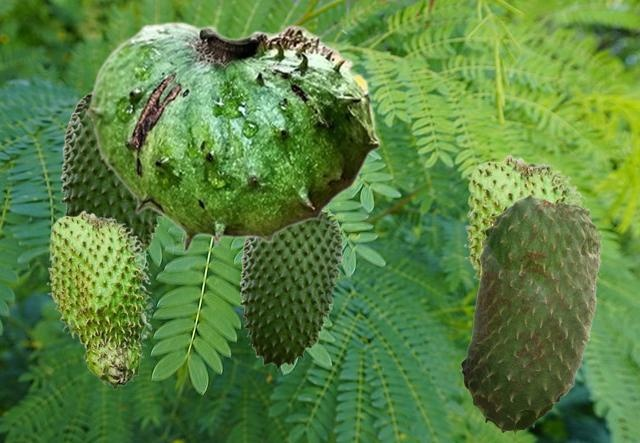guyabano: (86, 21, 380, 253), (459, 193, 603, 434), (46, 210, 153, 389), (60, 91, 163, 253), (239, 210, 342, 369), (463, 154, 590, 280)
